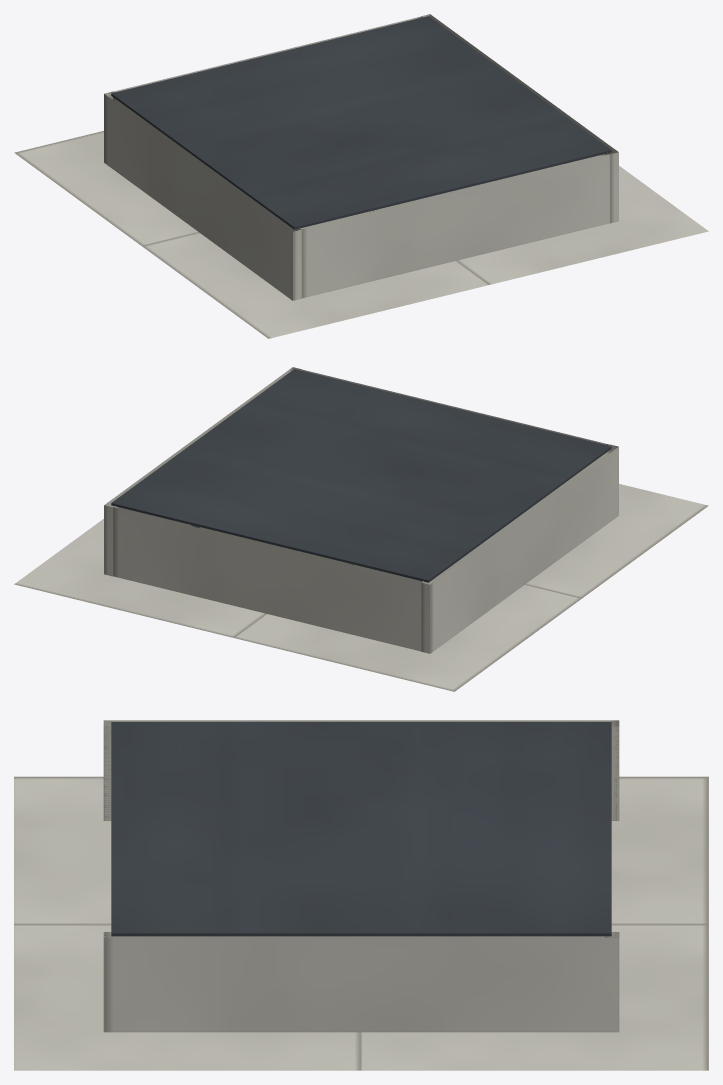
Rendered from ceiling_skylight.fbx.
3 views of the same model, one above another, from view 1: azimuth 30°, elevation 25°; view 2: azimuth 150°, elevation 25°; view 3: azimuth 270°, elevation 25° (orthographic). The views are drawn at different scales.
Visible parts, largest first — view 1: ceiling_skylight; view 2: ceiling_skylight; view 3: ceiling_skylight.
Boxes of the visible parts, bbox=[...] form: ceiling_skylight: bbox=[14, 14, 708, 338]; ceiling_skylight: bbox=[14, 367, 708, 691]; ceiling_skylight: bbox=[14, 720, 708, 1070].
Size of the model in its own units: 2 by 0.305 by 2.
Materials: 1 (1 with a texture image).
